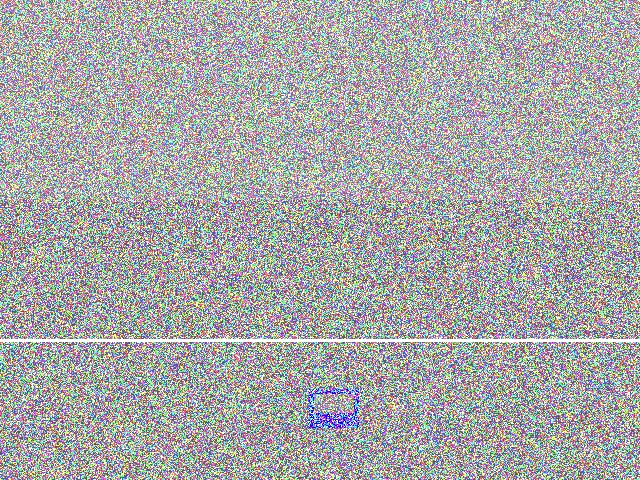truck: (154, 248, 331, 296), (500, 221, 620, 289)
